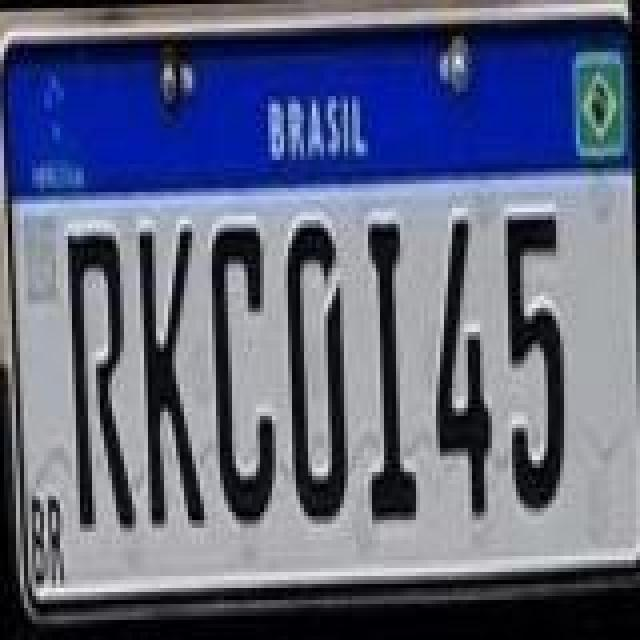4: (428, 214, 500, 522)
5: (502, 204, 570, 516)
C: (206, 218, 282, 534)
D: (280, 220, 352, 532)
I: (356, 218, 420, 526)
K: (136, 222, 208, 538)
R: (68, 228, 140, 540)
